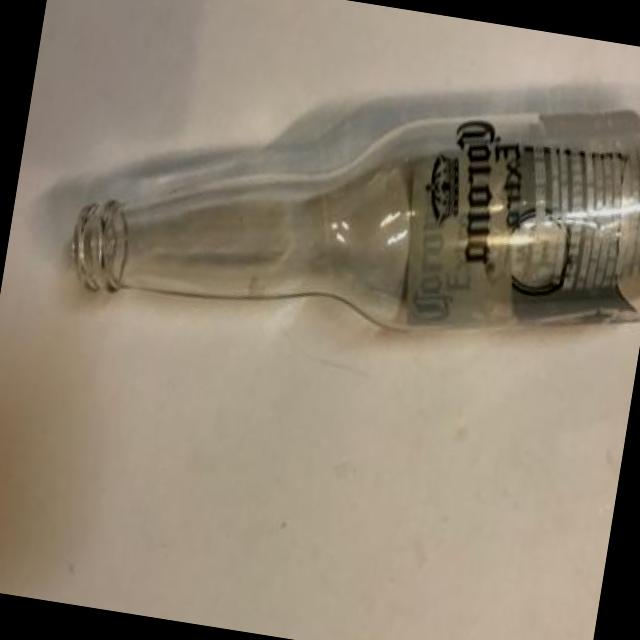chai_thuy_tinh: (50, 83, 640, 335)
